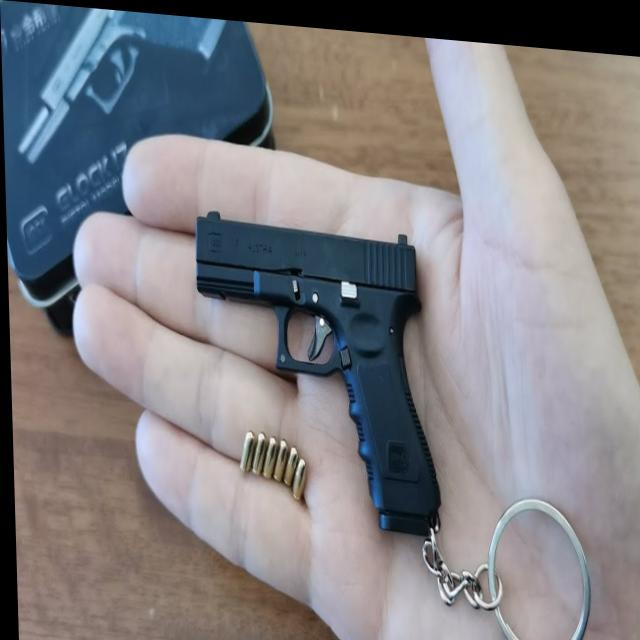handgun: (192, 196, 456, 562)
